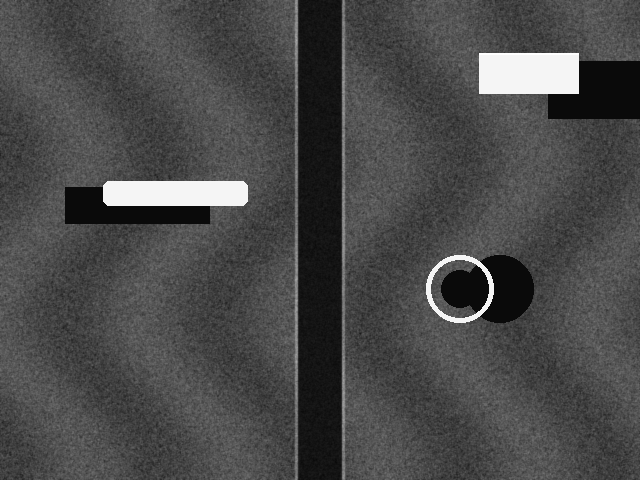Metal Debris: (479, 53, 578, 93)
Rubber Debris: (426, 255, 493, 322)
Wood Debris: (103, 181, 247, 205)
